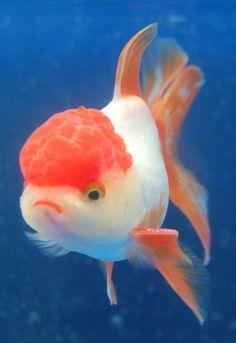goldfish: (14, 76, 198, 284)
